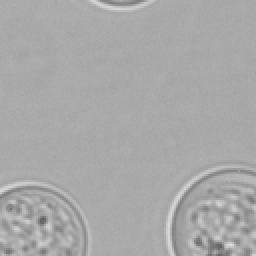picoshell: (166, 164, 254, 254), (0, 182, 88, 254), (88, 0, 154, 10)
